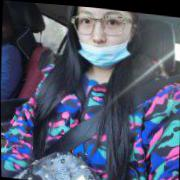WRONG: (74, 6, 133, 72)
